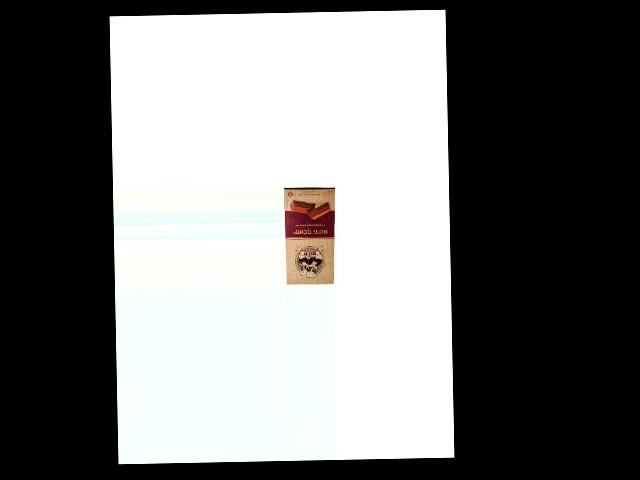chocolate: (285, 186, 338, 285)
